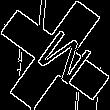M_SW: (21, 21, 89, 89)
